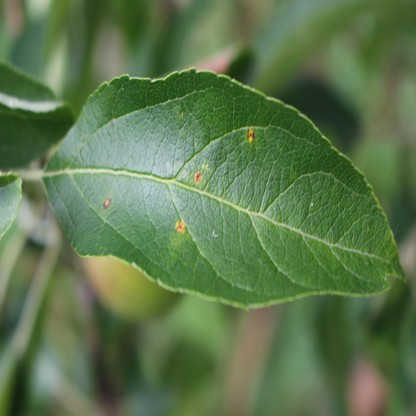rust: (175, 220, 185, 233), (249, 127, 255, 142), (103, 198, 111, 208), (195, 171, 201, 182)
